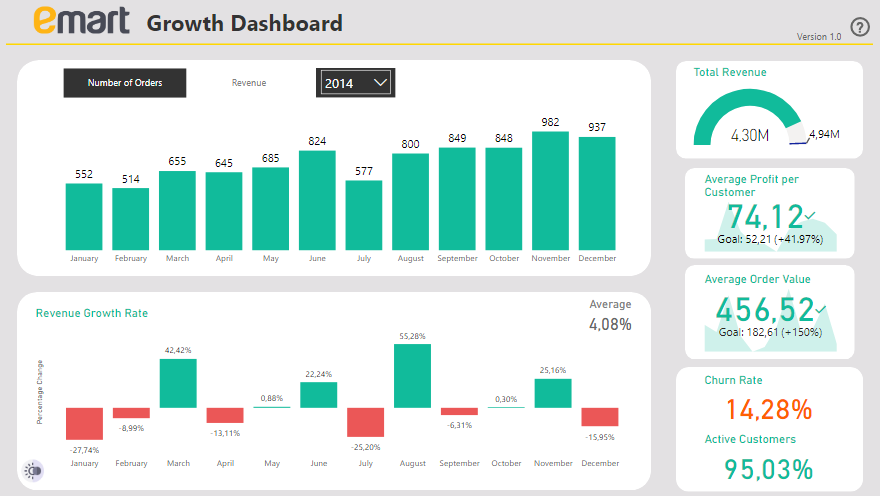

This screenshot's page, from the dashboard's own definition file:
{"tool":"powerbi","page":{"name":"Page 1","canvas":[1280,1080],"ordinal":0},"visuals":[{"type":"areaChart","fields":{"Category":["orders_abt.order_date.Variation.Date Hierarchy.Year","orders_abt.order_date.Variation.Date Hierarchy.Month"],"Y":["Avg(orders_abt.profit)"]},"box":[867,919,291.3,135.4],"z":0},{"type":"card","fields":{"Values":["Avg(orders_abt.profit)"]},"box":[868.6,938.6,291.4,125.7],"z":2000},{"type":"areaChart","fields":{"Category":["orders_abt.order_date.Variation.Date Hierarchy.Year","orders_abt.order_date.Variation.Date Hierarchy.Month"],"Y":["Avg(orders_abt.profit)"]},"box":[868.6,918.6,290,135.7],"z":3000},{"type":"areaChart","fields":{"Category":["orders_abt.order_date.Variation.Date Hierarchy.Year","orders_abt.order_date.Variation.Date Hierarchy.Month"],"Y":["Avg(orders_abt.sales)"]},"box":[868.6,781.4,290,117.1],"z":4000},{"type":"card","fields":{"Values":["Avg(orders_abt.sales)"]},"box":[890.8,791.4,244.9,107.7],"z":5000},{"type":"areaChart","title":"REVENUE","fields":{"Category":["orders_abt.order_date.Variation.Date Hierarchy.Year","orders_abt.order_date.Variation.Date Hierarchy.Month"],"Y":["Sum(orders_abt.sales)"]},"box":[40,490,695.7,251.4],"z":6000},{"type":"columnChart","title":"QUANTITY OF ORDERS","fields":{"Y":["CountNonNull(orders_abt.order_id)"],"Category":["orders_abt.order_date.Variation.Date Hierarchy.Year","orders_abt.order_date.Variation.Date Hierarchy.Month"]},"box":[41.4,782.9,697.1,271.4],"z":7000},{"type":"slicer","fields":{"Values":["orders_abt.order_date.Variation.Date Hierarchy.Year"]},"box":[982.9,172.9,260,82.9],"z":8000},{"type":"card","title":"R E V E N U E","fields":{"Values":["Sum(orders_abt.sales)"]},"box":[77.1,314.3,255.7,100],"z":9000},{"type":"card","title":"O R D E R S","fields":{"Values":["CountNonNull(orders_abt.order_id)"]},"box":[690,314.3,254.3,100],"z":10000},{"type":"donutChart","title":"MARKET PERFORMANCE","fields":{"Category":["orders_abt.market"],"Y":["Sum(orders_abt.sales)"]},"box":[781.4,490,461.4,251.4],"z":11000},{"type":"slicer","fields":{"Values":["orders_abt.country"]},"box":[77.1,167.1,255.7,88.6],"z":12000},{"type":"slicer","fields":{"Values":["orders_abt.state"]},"box":[385.7,168.6,255.7,87.1],"z":13000},{"type":"slicer","fields":{"Values":["orders_abt.city"]},"box":[690,168.6,254.3,87.1],"z":14000},{"type":"card","title":"P R O F I T","fields":{"Values":["Sum(orders_abt.profit)"]},"box":[385.7,314.3,254.3,100],"z":15000},{"type":"card","title":"C U S T O M E R S","fields":{"Values":["Count(orders_abt.customer_id)"]},"box":[982.9,314.3,260,100],"z":16000},{"type":"textbox","box":[0,0,1280,91.4],"z":17000},{"type":"image","box":[24.3,5.7,104.3,78.6],"z":18000},{"type":"actionButton","box":[1202.9,22.9,45.7,44.3],"z":19000},{"type":"areaChart","fields":{"Category":["orders_abt.order_date.Variation.Date Hierarchy.Year","orders_abt.order_date.Variation.Date Hierarchy.Month"],"Y":["Avg(orders_abt.sales)"]},"box":[865.6,780.9,291.3,116.2],"z":20000}]}

Visuals, with their boxes on the page's 1280x1080 design canvas (x1, y1, x2, y2). These are canvas units, not pixel positions in the 880x496 screenshot, which may show the page scaled, cropped or inside an application window:
areaChart - orders_abt.order_date.Variation.Date Hierarchy.Year x orders_abt.order_date.Variation.Date Hierarchy.Month: crop(867, 919, 1158, 1054)
card - Avg(orders_abt.profit): crop(869, 939, 1160, 1064)
areaChart - orders_abt.order_date.Variation.Date Hierarchy.Year x orders_abt.order_date.Variation.Date Hierarchy.Month: crop(869, 919, 1159, 1054)
areaChart - orders_abt.order_date.Variation.Date Hierarchy.Year x orders_abt.order_date.Variation.Date Hierarchy.Month: crop(869, 781, 1159, 898)
card - Avg(orders_abt.sales): crop(891, 791, 1136, 899)
"REVENUE" areaChart: crop(40, 490, 736, 741)
"QUANTITY OF ORDERS" columnChart: crop(41, 783, 738, 1054)
slicer - orders_abt.order_date.Variation.Date Hierarchy.Year: crop(983, 173, 1243, 256)
"R E V E N U E" card: crop(77, 314, 333, 414)
"O R D E R S" card: crop(690, 314, 944, 414)
"MARKET PERFORMANCE" donutChart: crop(781, 490, 1243, 741)
slicer - orders_abt.country: crop(77, 167, 333, 256)
slicer - orders_abt.state: crop(386, 169, 641, 256)
slicer - orders_abt.city: crop(690, 169, 944, 256)
"P R O F I T" card: crop(386, 314, 640, 414)
"C U S T O M E R S" card: crop(983, 314, 1243, 414)
textbox: crop(0, 0, 1280, 91)
image: crop(24, 6, 129, 84)
actionButton: crop(1203, 23, 1249, 67)
areaChart - orders_abt.order_date.Variation.Date Hierarchy.Year x orders_abt.order_date.Variation.Date Hierarchy.Month: crop(866, 781, 1157, 897)
